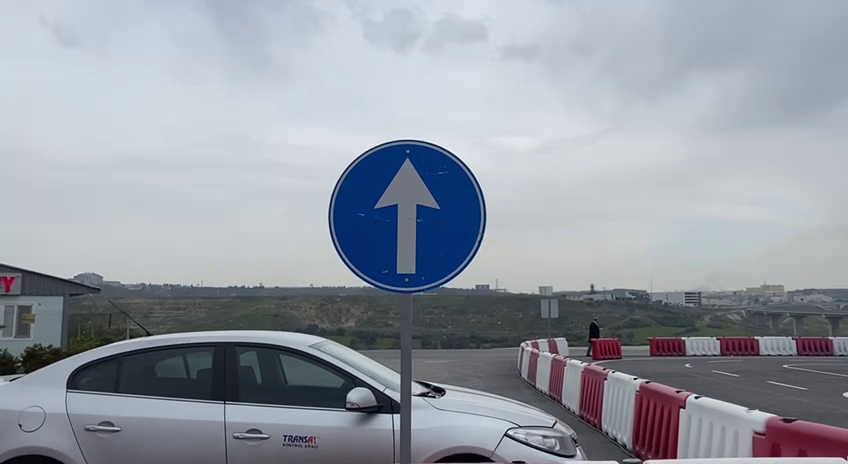forward: (324, 132, 492, 298)
